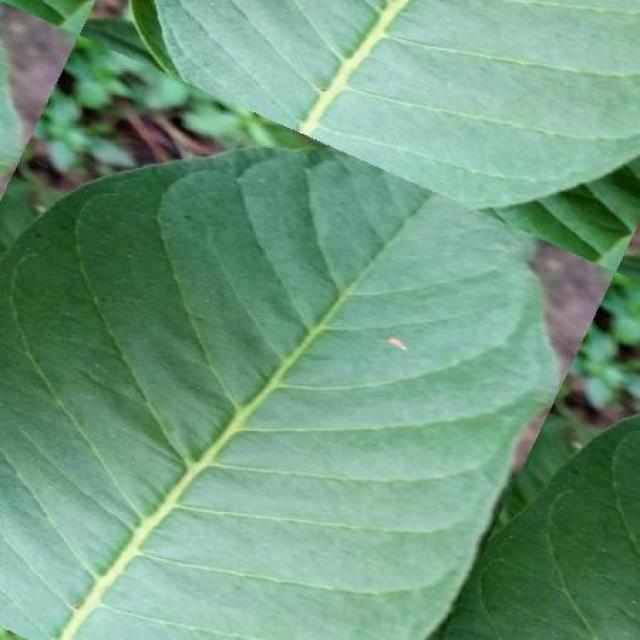Disease Free: (0, 152, 556, 640), (156, 0, 640, 207), (432, 416, 640, 639)
